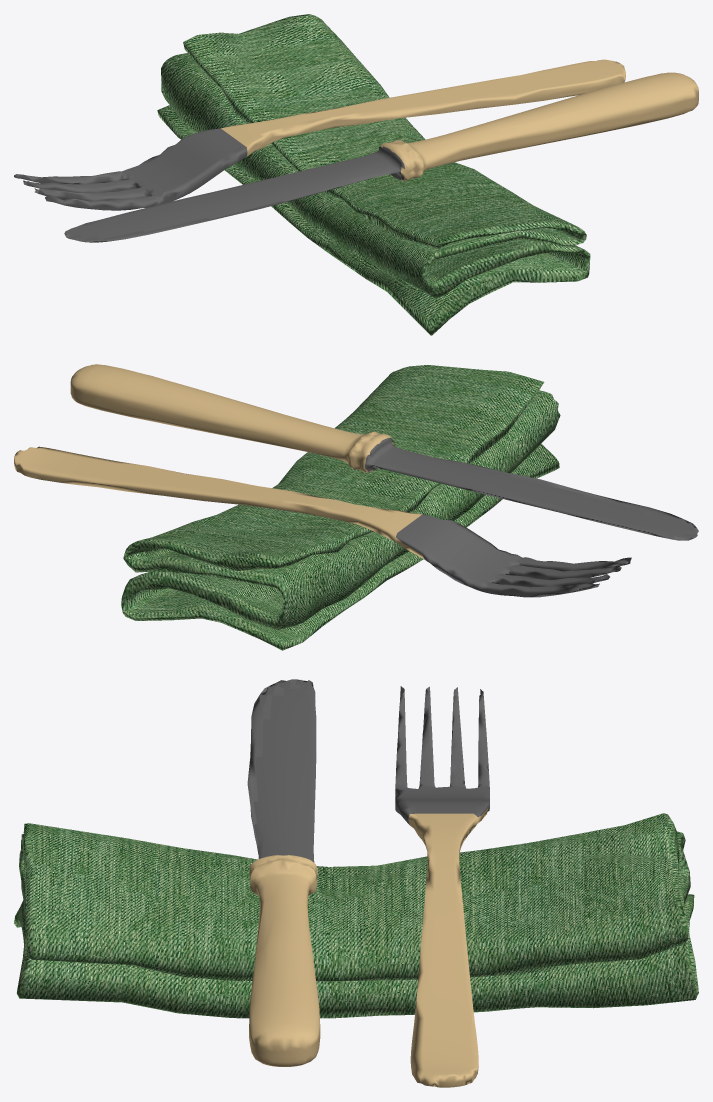
File: KnifeAndFork.fbx
3 renders of one model, top to bottom at view 1: azimuth 30°, elevation 25°; view 2: azimuth 150°, elevation 25°; view 3: azimuth 270°, elevation 25°, orthographic. The views are drawn at different scales.
Visible parts, largest first — view 1: Knife; view 2: Knife; view 3: Knife.
Boxes of the visible parts, x1,y1,x2,y2 form: Knife: (14,14,698,335); Knife: (14,364,698,650); Knife: (14,679,698,1087).
Bounding box in the file's own units: 2711 × 434 × 2086.
Materials: 3 (1 with a texture image).
